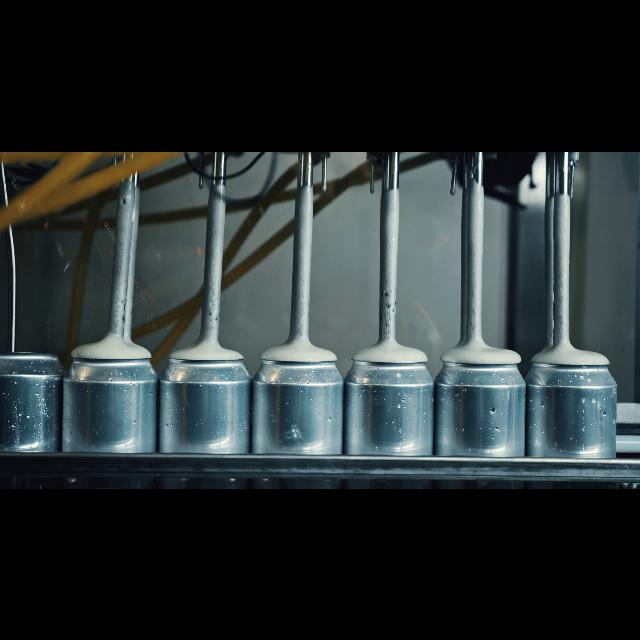empty: (2, 334, 62, 488)
full: (66, 322, 160, 488), (254, 328, 342, 488), (442, 332, 526, 488), (532, 336, 618, 488), (349, 334, 433, 488), (168, 329, 245, 488)
